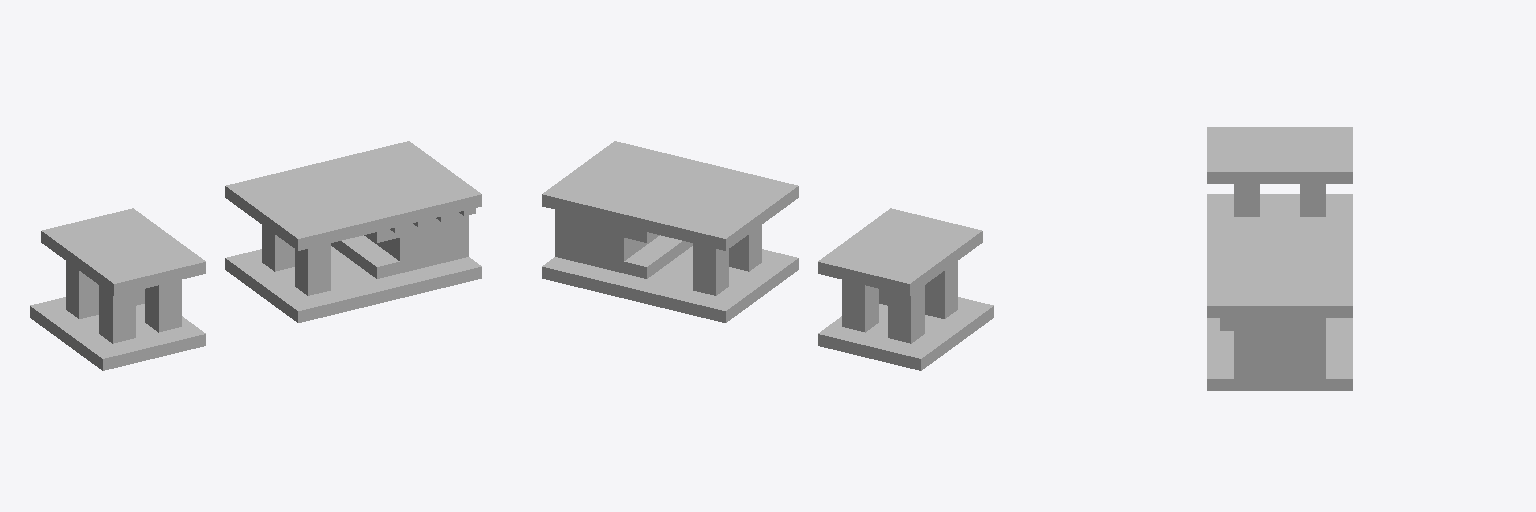
The model's file is North Gate.obj.
The picture shows the model from 3 angles: view 1: azimuth 30°, elevation 25°; view 2: azimuth 150°, elevation 25°; view 3: azimuth 270°, elevation 25°; orthographic projection.
Bounding box in the file's own units: 33 × 7 × 11.